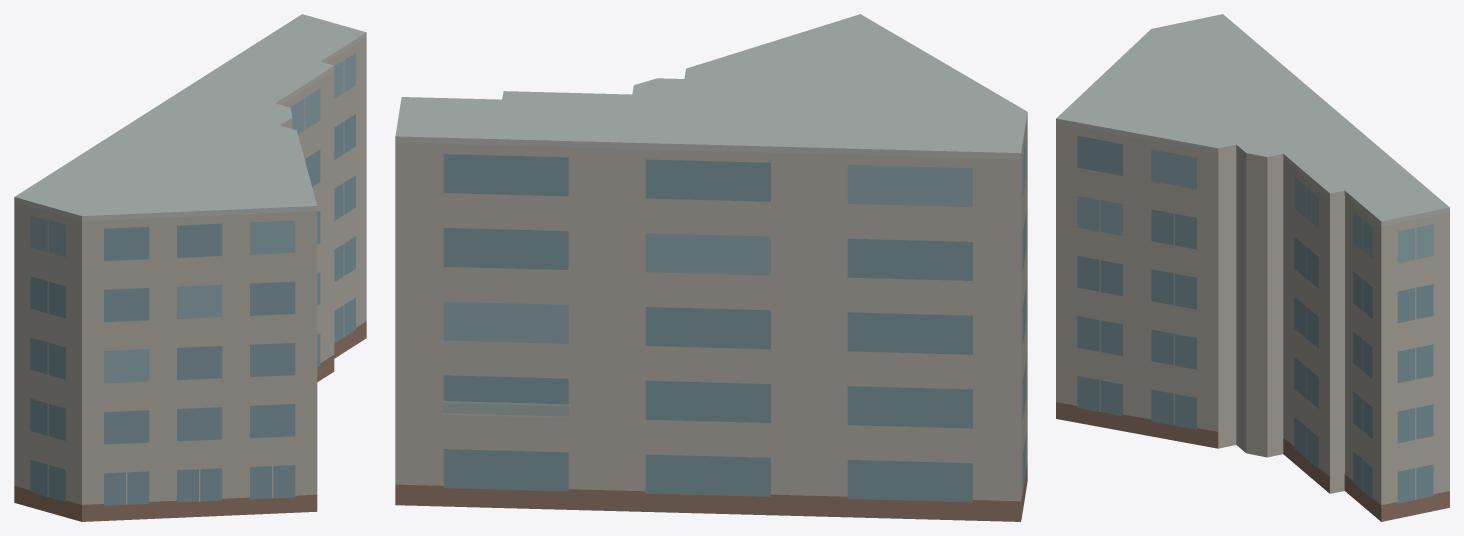
Rendered from survey-upis-32671724.glb.
3 views of the same model, side by side, from view 1: azimuth 30°, elevation 25°; view 2: azimuth 150°, elevation 25°; view 3: azimuth 270°, elevation 25° (orthographic). The views are drawn at different scales.
Parts seen in each view (by area): view 1: survey-upis-32671724.tmp; view 2: survey-upis-32671724.tmp; view 3: survey-upis-32671724.tmp.
Boxes of the visible parts, x1,y1,x2,y2 form: survey-upis-32671724.tmp: (14, 14, 366, 521); survey-upis-32671724.tmp: (395, 14, 1027, 521); survey-upis-32671724.tmp: (1056, 14, 1449, 521).
Bounding box in the file's own units: 21.65 × 14.6 × 17.35.
